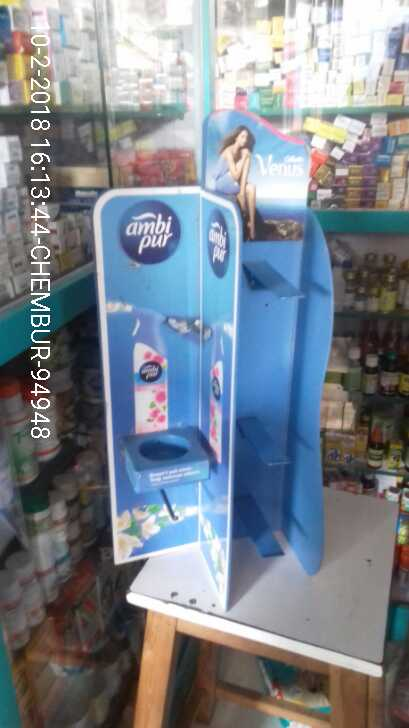reject: (118, 292, 219, 406)
